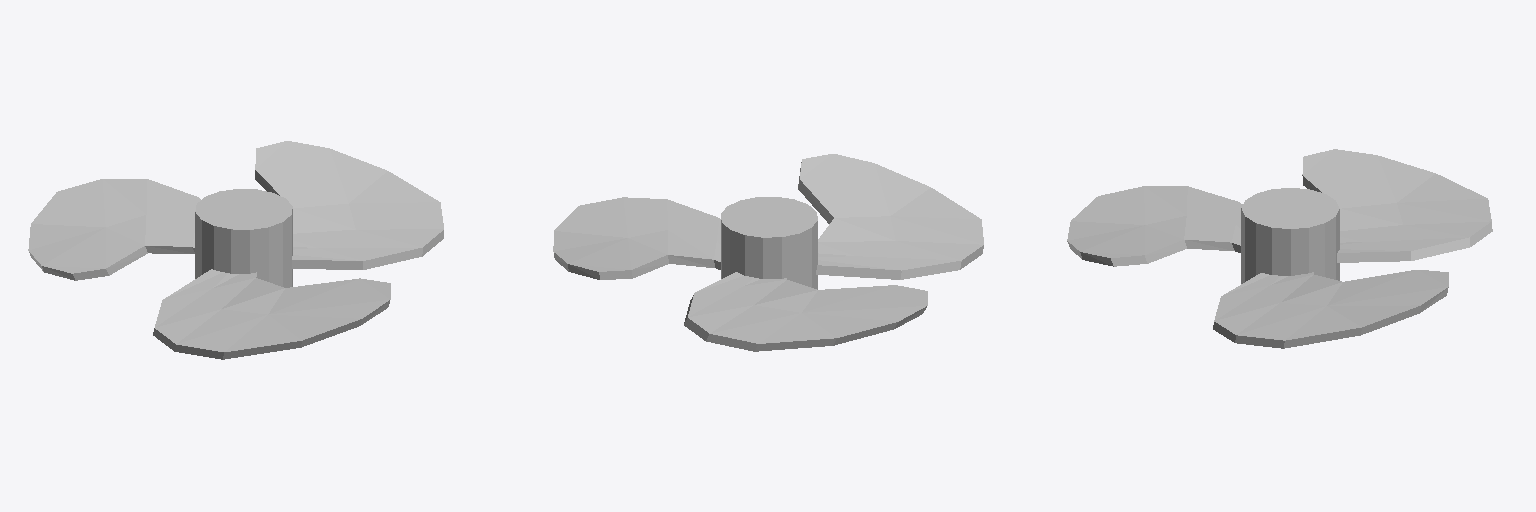
File: wing.obj
The picture shows the model from 3 angles: view 1: azimuth 30°, elevation 25°; view 2: azimuth 150°, elevation 25°; view 3: azimuth 270°, elevation 25°; orthographic projection.
Parts seen in each view (by area): view 1: wing_円柱.003; view 2: wing_円柱.003; view 3: wing_円柱.003.
Part boxes in pixels (bbox=[...]): wing_円柱.003: bbox=[28, 141, 443, 359]; wing_円柱.003: bbox=[553, 154, 983, 351]; wing_円柱.003: bbox=[1067, 149, 1492, 348].
Bounding box in the file's own units: 5.76 × 1.31 × 5.68.